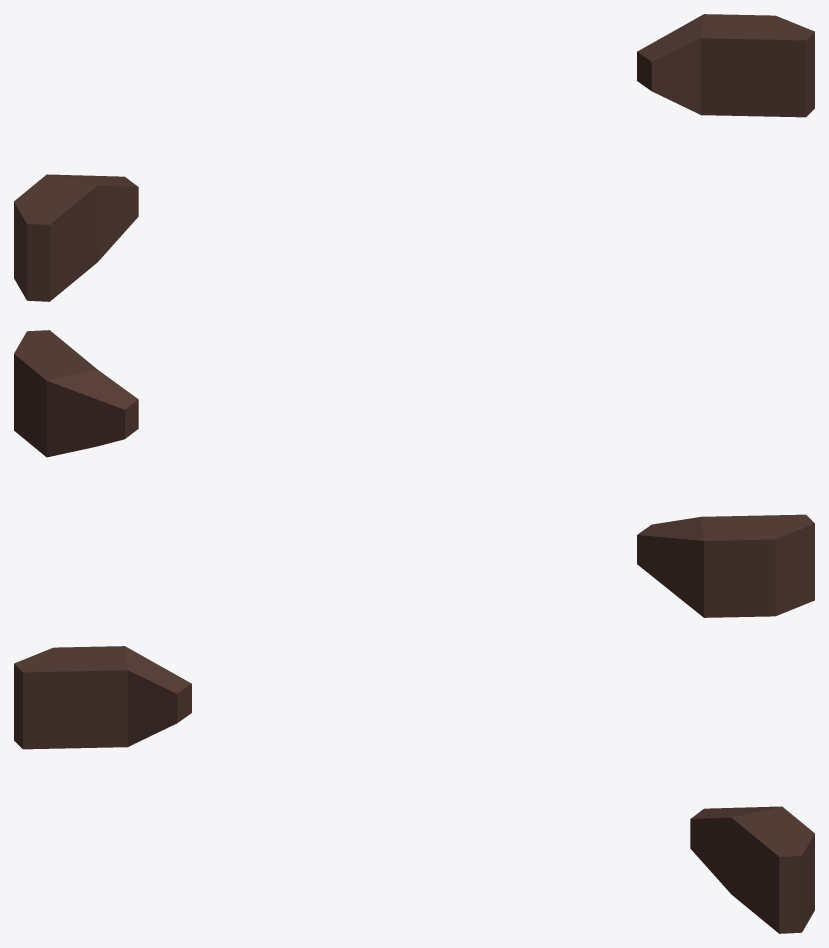
Rendered from car_mirrors.glb.
3 views of the same model, one above another, from view 1: azimuth 30°, elevation 25°; view 2: azimuth 150°, elevation 25°; view 3: azimuth 330°, elevation 25° (orthographic).
Parts seen in each view (by area): view 1: SideMirros; view 2: SideMirros; view 3: SideMirros.
Boxes of the visible parts, x1,y1,x2,y2 form: SideMirros: [14, 14, 814, 301]; SideMirros: [14, 330, 814, 617]; SideMirros: [14, 646, 814, 933].
Bounding box in the file's own units: 2.49 × 0.2324 × 0.2874.
Materials: 1 (1 with a texture image).
